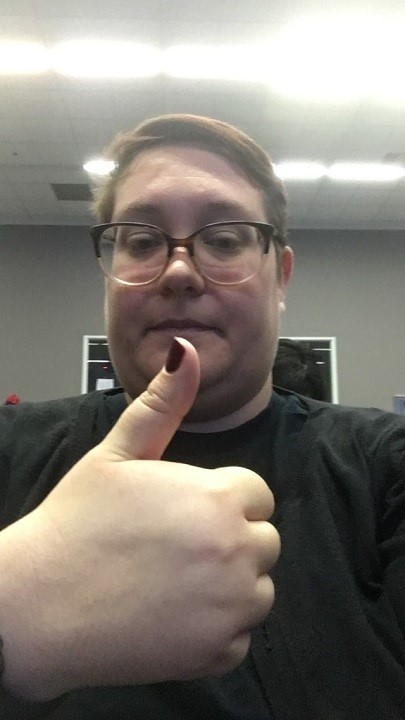hand: (29, 334, 281, 693)
